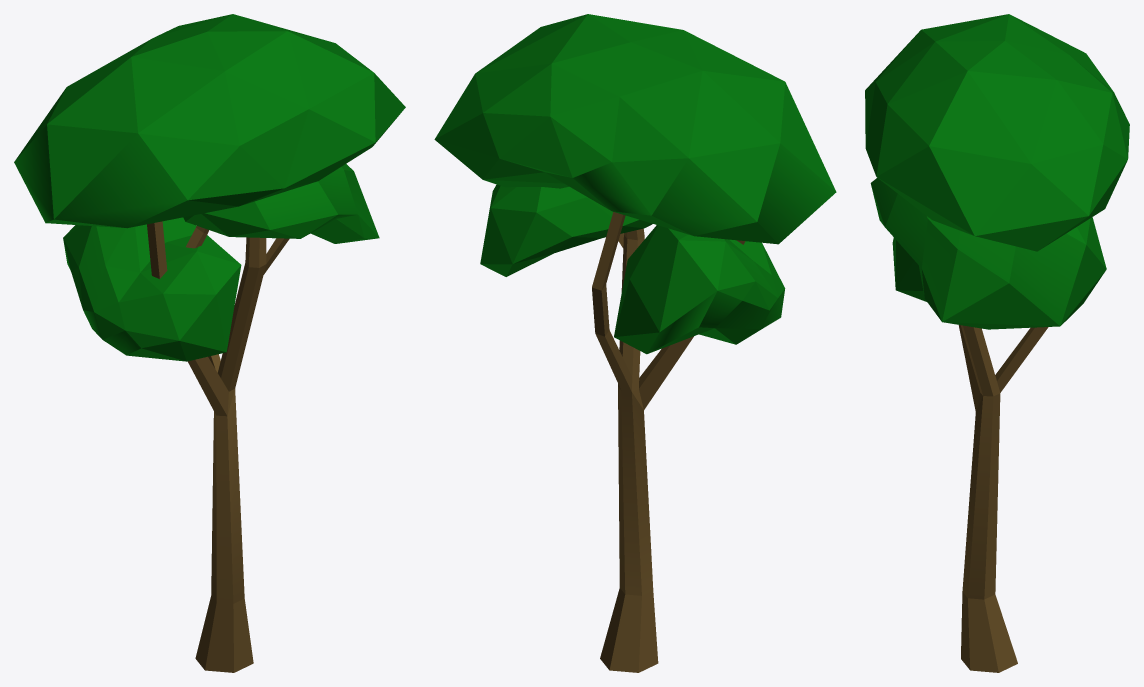
File: Tree-04.fbx
3 renders of one model, left to right at view 1: azimuth 30°, elevation 25°; view 2: azimuth 150°, elevation 25°; view 3: azimuth 270°, elevation 25°, orthographic.
Visible parts, largest first — view 1: Tree-04; view 2: Tree-04; view 3: Tree-04.
Boxes of the visible parts, x1,y1,x2,y2 form: Tree-04: [14, 14, 405, 672]; Tree-04: [434, 14, 836, 672]; Tree-04: [865, 14, 1129, 672].
Size of what is drawn, in the model's own units: 3.64 by 6 by 2.34.
